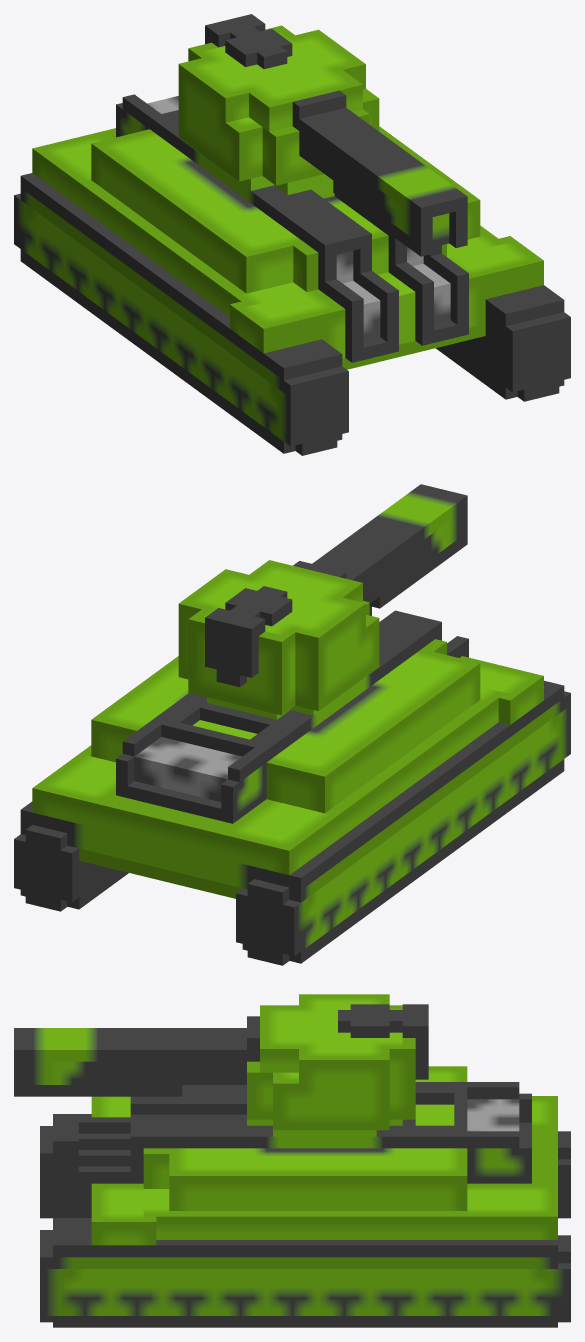
The model's file is Tank_1.fbx.
3 views of the same model, one above another, from view 1: azimuth 30°, elevation 25°; view 2: azimuth 150°, elevation 25°; view 3: azimuth 270°, elevation 25° (orthographic). The views are drawn at different scales.
Visible parts, largest first — view 1: Matrix_2, Matrix_3; view 2: Matrix_2, Matrix_3; view 3: Matrix_2, Matrix_3.
Part boxes in pixels (left/top/right/bottom): Matrix_2: left=14, top=94, right=570, bottom=455; Matrix_3: left=178, top=14, right=467, bottom=256; Matrix_2: left=14, top=606, right=570, bottom=965; Matrix_3: left=178, top=484, right=467, bottom=715; Matrix_2: left=40, top=1066, right=570, bottom=1327; Matrix_3: left=14, top=994, right=428, bottom=1130.
Size of the model in its own units: 24 by 21 by 43.
